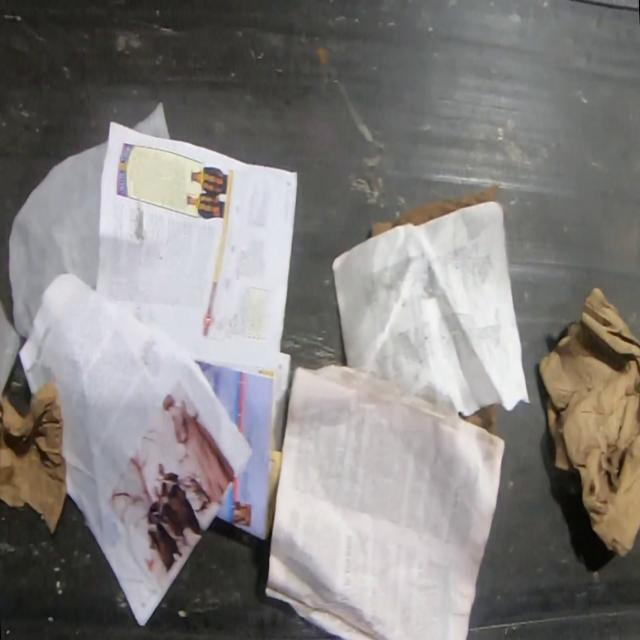cardboard: (536, 285, 640, 561), (0, 375, 70, 540), (374, 178, 503, 236), (458, 401, 498, 435)
